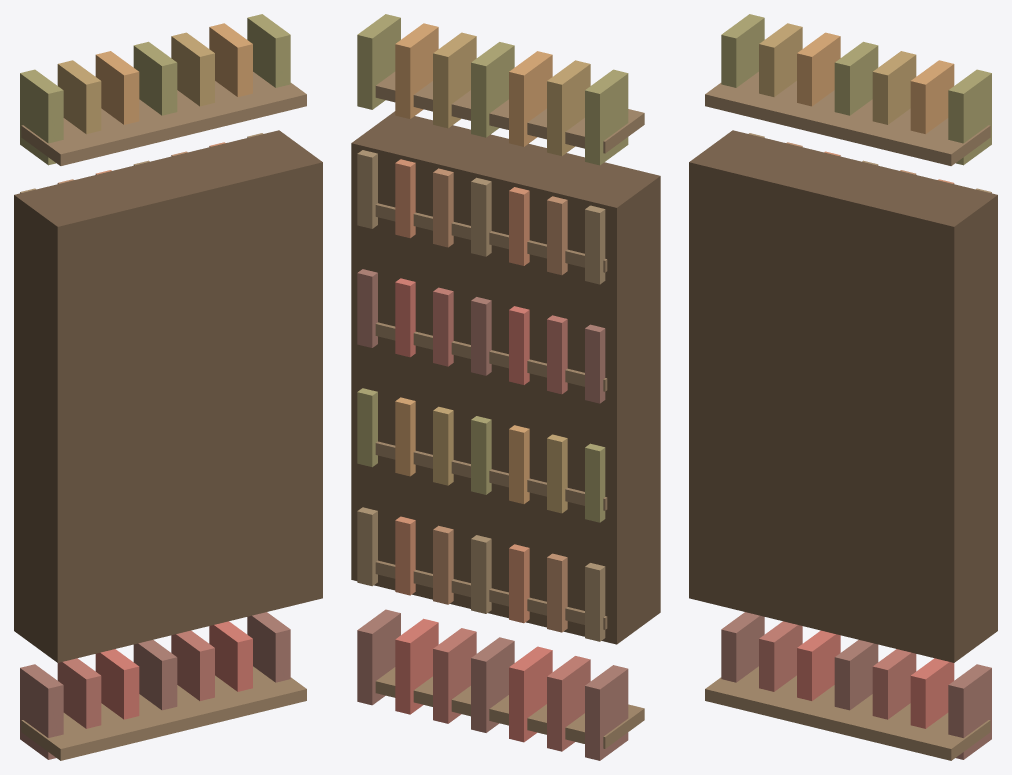
The model's file is Bookshelf.fbx.
3 views of the same model, side by side, from view 1: azimuth 30°, elevation 25°; view 2: azimuth 150°, elevation 25°; view 3: azimuth 330°, elevation 25° (orthographic).
Parts seen in each view (by area): view 1: Bookshelf; view 2: Bookshelf; view 3: Bookshelf.
Part boxes in pixels (box(x1,y1,x2,y2)): Bookshelf: box(14, 14, 322, 760); Bookshelf: box(351, 14, 660, 760); Bookshelf: box(689, 14, 997, 760).
Size of the model in its own units: 70 by 168 by 22.5.
